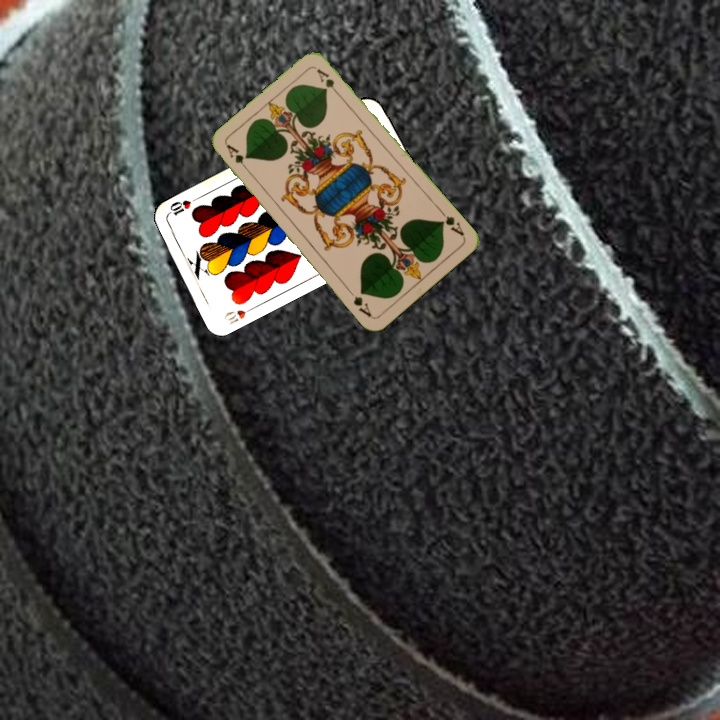GA: (435, 206, 467, 239), (222, 140, 252, 175)
H10: (220, 302, 259, 327)
